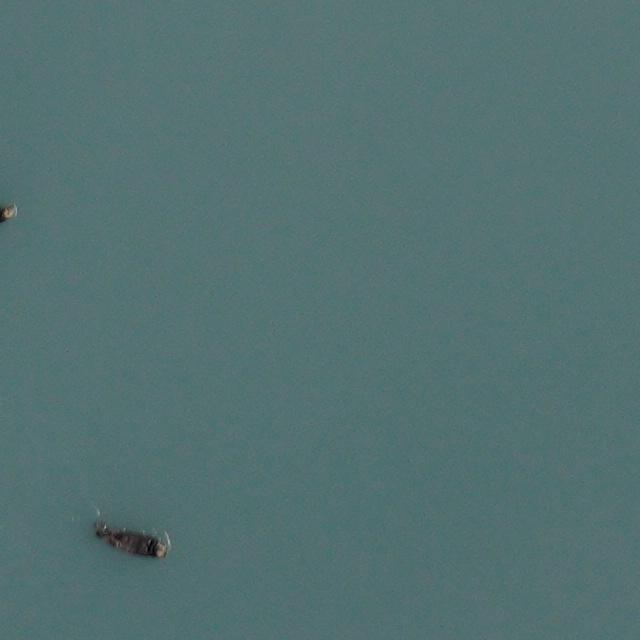seal: (89, 520, 170, 564), (0, 204, 16, 223)
